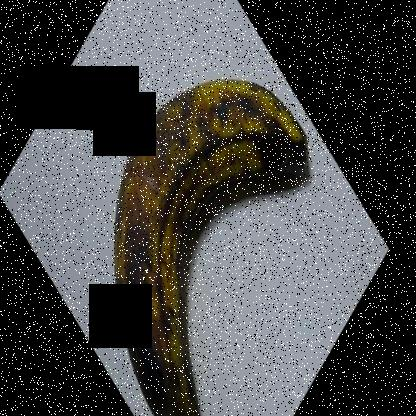overripe: (110, 59, 324, 415)
